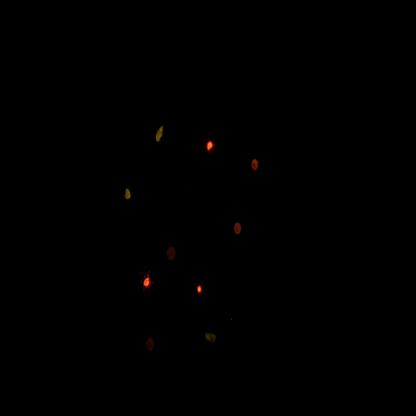PP: (116, 181, 139, 222), (200, 325, 222, 353), (153, 119, 167, 152)
PS: (138, 322, 162, 369), (164, 236, 182, 269), (245, 153, 263, 183), (227, 214, 247, 240)
PVC: (137, 265, 158, 299), (202, 129, 221, 166), (188, 278, 208, 307)
